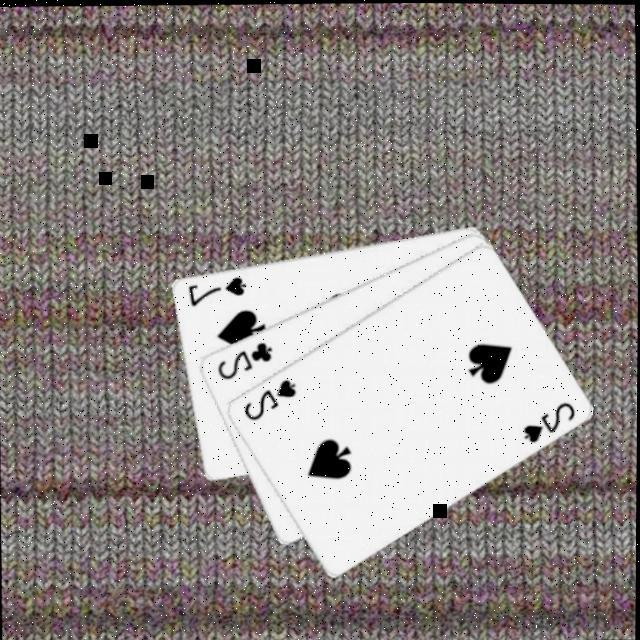2C: (214, 335, 277, 380)
2S: (519, 395, 579, 444), (241, 372, 301, 420)
7S: (184, 270, 249, 307)
